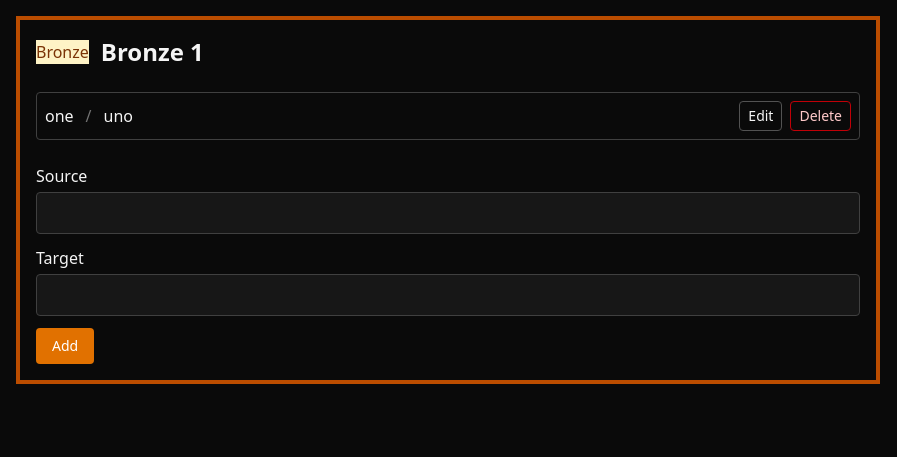
Test: TASK-011 AC-10: ListDetail Add-Card success › AC-10: Page.cardIds is [...prev, newId] after add (appended)
Check: the list item with test id "card-row-old" is shown, box [36,92,860,140]
In the field labelled "Source": (448, 213) [36,192,860,234], type "hello"
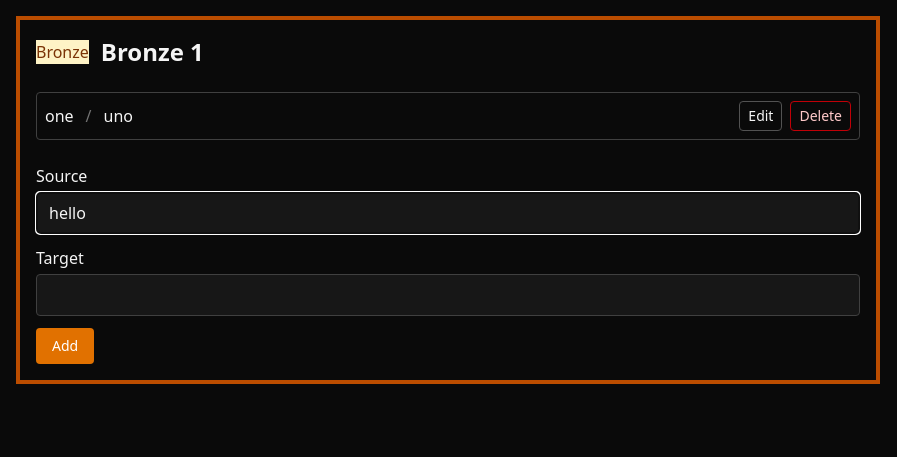
In the field labelled "Target": (448, 295) [36,274,860,316], type "hola"
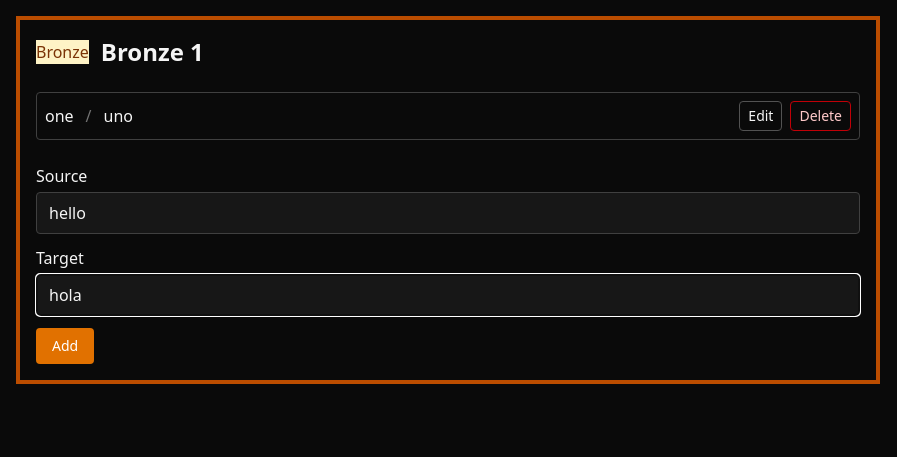
Click the button "Add": (65, 346) [36,328,94,364]
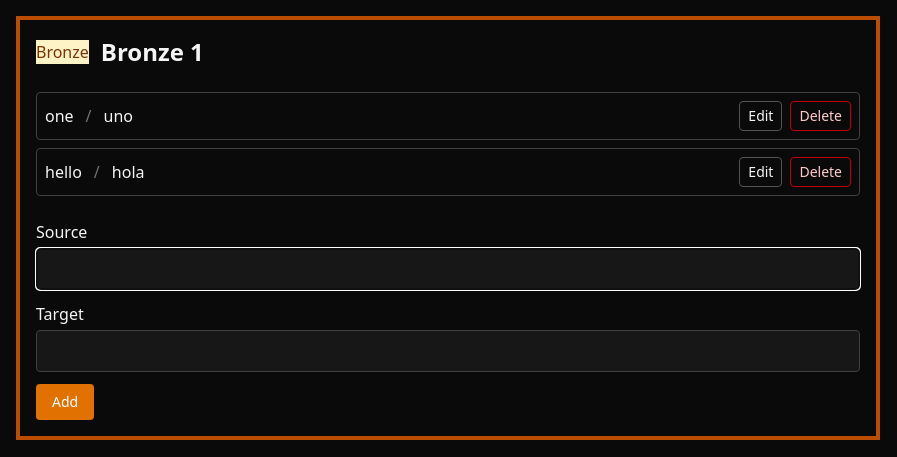
Check: the text "hello" is shown, box [45,160,82,184]
